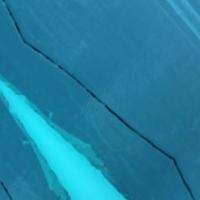crack: (3, 3, 199, 199)
